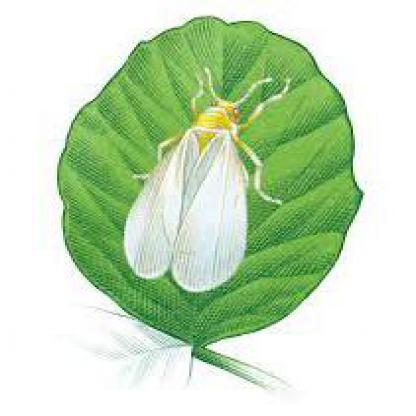whitefly: (122, 100, 262, 291)
